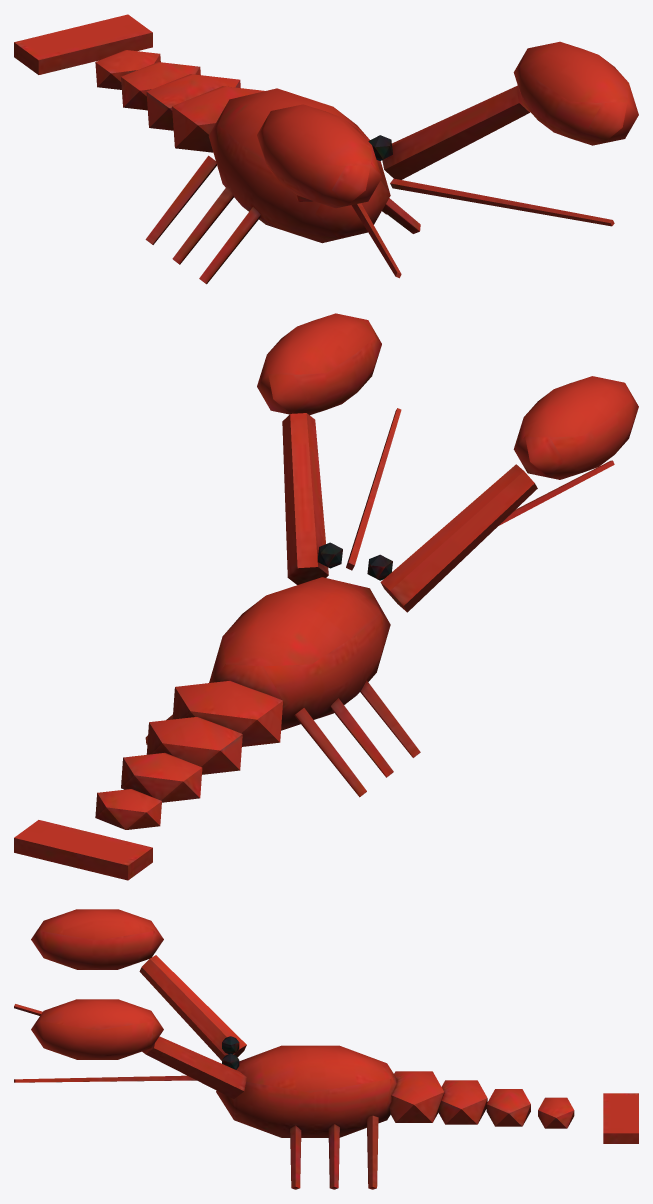
File: langosta.glb
3 renders of one model, top to bottom at view 1: azimuth 30°, elevation 25°; view 2: azimuth 150°, elevation 25°; view 3: azimuth 270°, elevation 25°, orthographic. The views are drawn at different scales.
Parts seen in each view (by area): view 1: langosta; view 2: langosta; view 3: langosta.
Boxes of the visible parts, x1,y1,x2,y2 form: langosta: (14,14,638,284); langosta: (14,313,638,880); langosta: (14,909,638,1189).
Size of the model in its own units: 0.9483 by 0.7356 by 2.11.
Materials: 1 (1 with a texture image).
